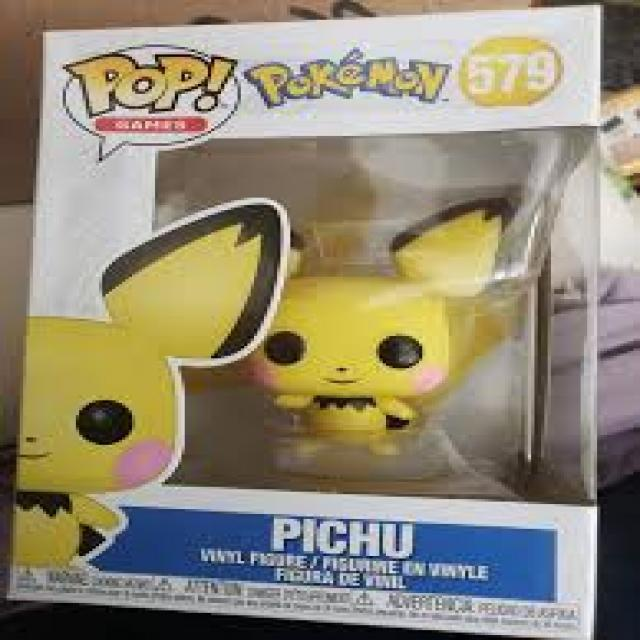pichu: (198, 203, 528, 445)
